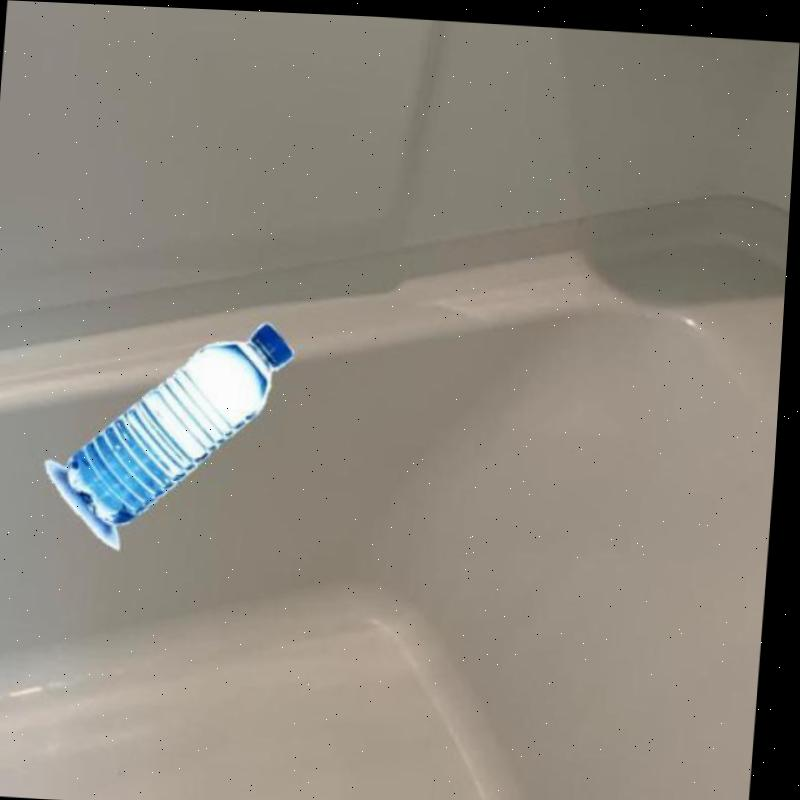botella: (68, 310, 301, 536)
